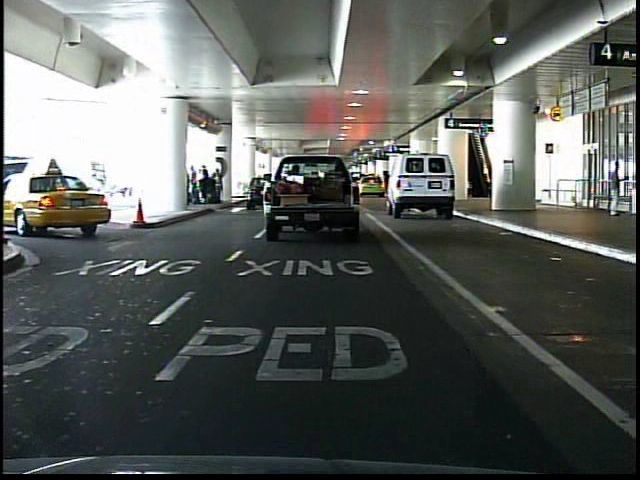person: (601, 158, 627, 220)
